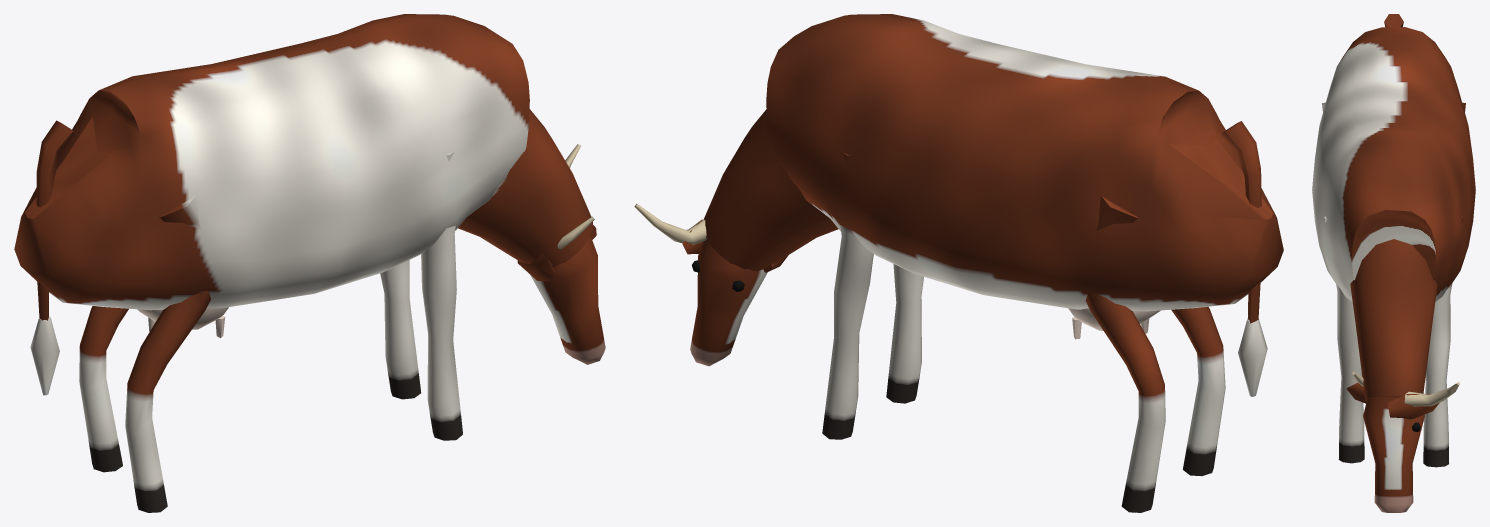
The model's file is tpl_life_herd_1575_cattle_redpied_graze_h.glb.
The picture shows the model from 3 angles, left to right: view 1: azimuth 30°, elevation 25°; view 2: azimuth 150°, elevation 25°; view 3: azimuth 270°, elevation 25°; orthographic projection. The views are drawn at different scales.
Visible parts, largest first — view 1: tpl_life_herd_1575_cattle_redpied_graze_h; view 2: tpl_life_herd_1575_cattle_redpied_graze_h; view 3: tpl_life_herd_1575_cattle_redpied_graze_h.
Boxes of the visible parts, x1,y1,x2,y2 form: tpl_life_herd_1575_cattle_redpied_graze_h: (14,14,605,512); tpl_life_herd_1575_cattle_redpied_graze_h: (634,14,1283,512); tpl_life_herd_1575_cattle_redpied_graze_h: (1312,14,1475,512).
Bounding box in the file's own units: 2.21 × 1.41 × 0.6588.
Materials: 3 (1 with a texture image).
